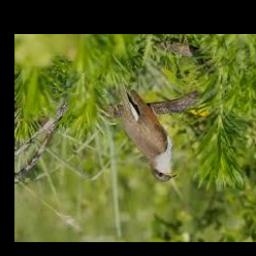Cuckoo: (117, 82, 178, 182)
